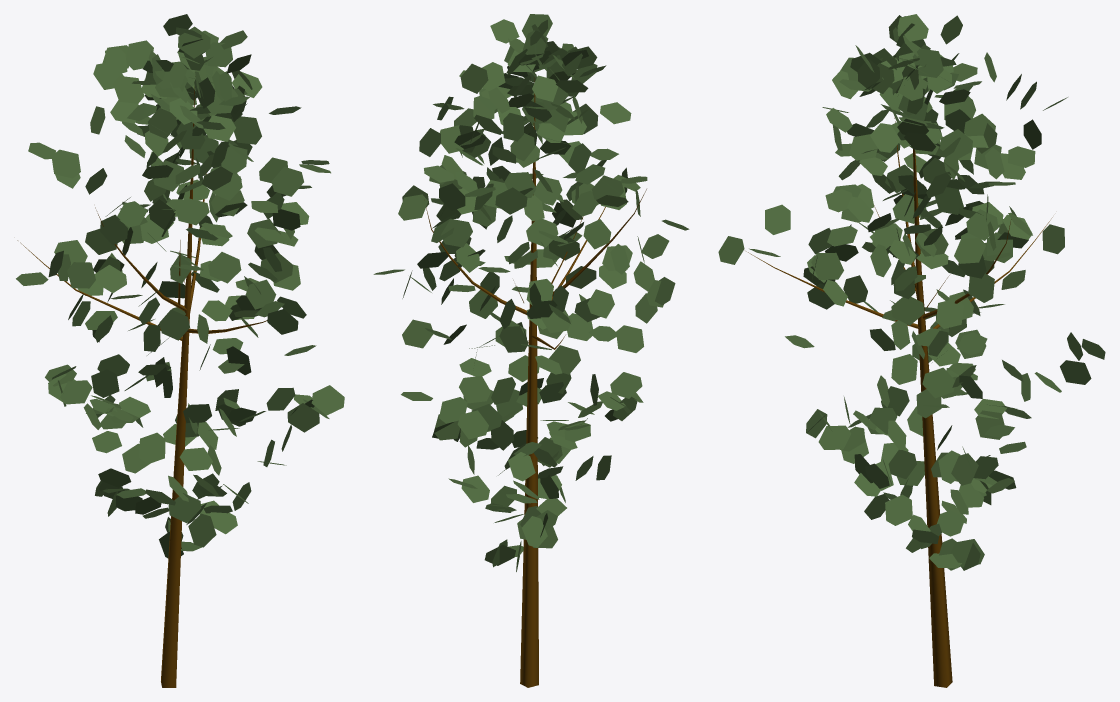
Rendered from tree-tree-006-lod1.glb.
3 renders of one model, left to right at view 1: azimuth 30°, elevation 25°; view 2: azimuth 150°, elevation 25°; view 3: azimuth 270°, elevation 25°, orthographic. The views are drawn at different scales.
Parts seen in each view (by area): view 1: v_tree.006; view 2: v_tree.006; view 3: v_tree.006.
Part boxes in pixels (x1,y1,x2,y2): v_tree.006: (16,14,344,687); v_tree.006: (373,14,689,687); v_tree.006: (718,14,1105,687).
Size of the model in its own units: 7.01 by 16.31 by 8.56.
